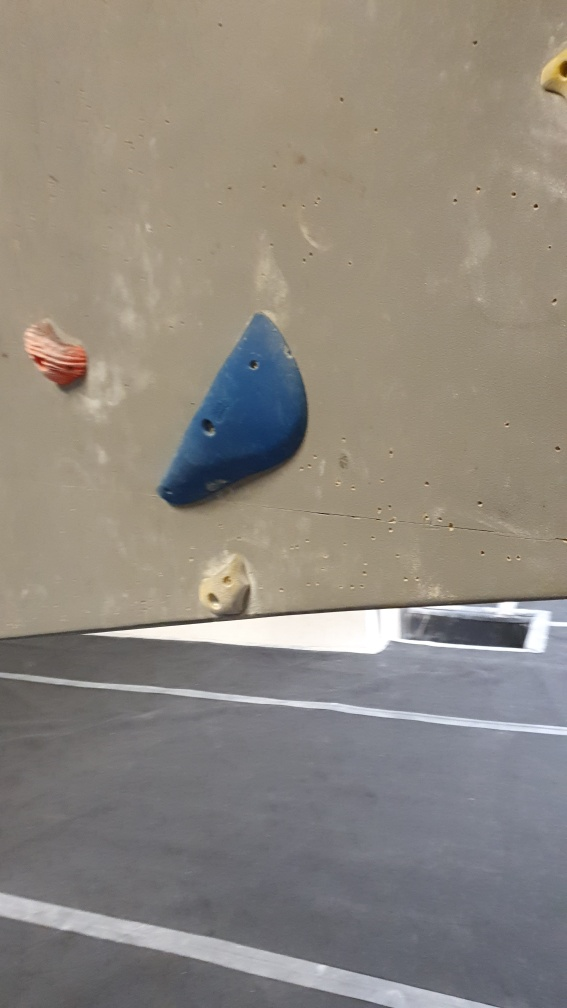Jug: (19, 319, 90, 391)
